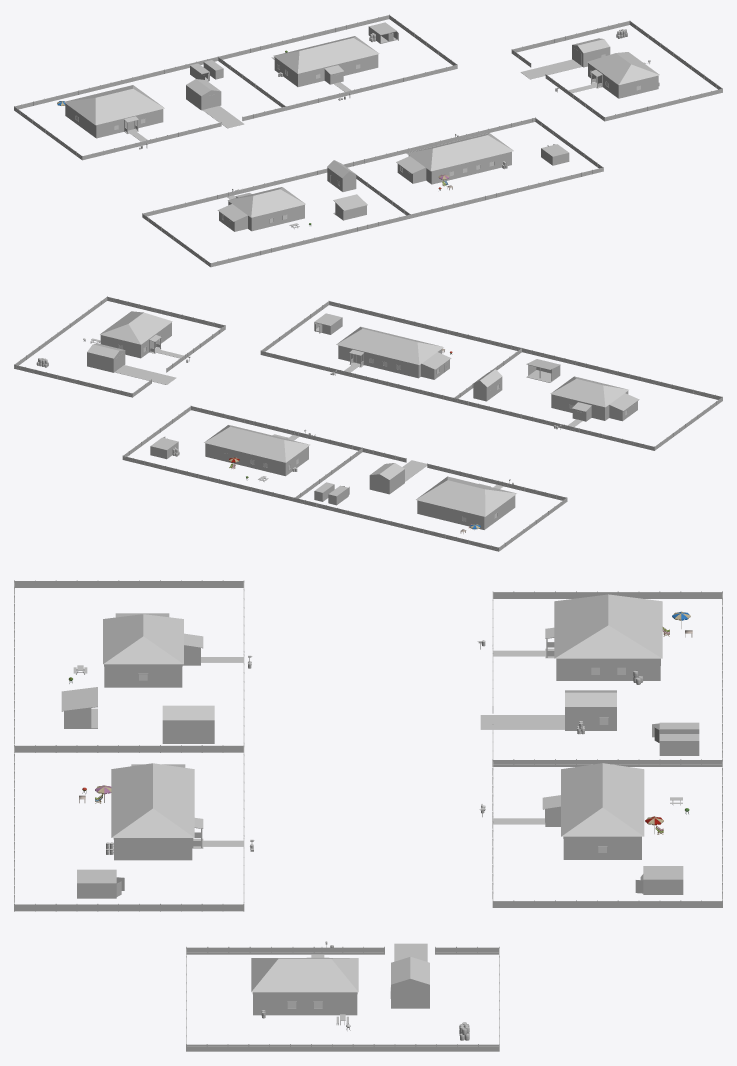
Rendered from HauseHutor09.fbx.
The picture shows the model from 3 angles, top to bottom: view 1: azimuth 30°, elevation 25°; view 2: azimuth 150°, elevation 25°; view 3: azimuth 270°, elevation 25°; orthographic projection. The views are drawn at different scales.
Parts seen in each view (by area): view 1: Zabor.018, Zabor.156, Roof.051, Zabor.119, Zabor.095, Roof.010, Roof.104, Zabor.158, RoofHause.025, RoofHause.015, HauseE.013, HauseF.003 (+11 smaller); view 2: Zabor.018, Zabor.156, Zabor.119, Roof.051, Zabor.095, Roof.010, Roof.104, Zabor.158, RoofHause.025, RoofHause.015, HauseF.003, HauseE.013 (+9 smaller); view 3: Roof.051, Roof.010, Roof.104, Zabor.158, Zabor.018, RoofHause.015, RoofHause.025, Zabor.156, HauseJ.025, HauseE.013, Zabor.119, Garaje.001 (+12 smaller).
Boxes of the visible parts, bbox=[...] form: Zabor.018: bbox=[343, 117, 603, 218]; Zabor.156: bbox=[218, 14, 457, 110]; Roof.051: bbox=[64, 85, 164, 125]; Zabor.119: bbox=[142, 168, 410, 267]; Zabor.095: bbox=[14, 57, 285, 160]; Roof.010: bbox=[406, 133, 513, 171]; Roof.104: bbox=[273, 36, 379, 73]; Zabor.158: bbox=[511, 20, 722, 121]; RoofHause.025: bbox=[587, 52, 659, 84]; RoofHause.015: bbox=[227, 187, 305, 217]; HauseE.013: bbox=[65, 103, 163, 138]; HauseF.003: bbox=[274, 54, 378, 86]; Zabor.018: bbox=[260, 301, 522, 401]; Zabor.156: bbox=[122, 406, 362, 501]; Zabor.119: bbox=[454, 348, 722, 450]; Roof.051: bbox=[416, 476, 516, 516]; Zabor.095: bbox=[294, 448, 567, 551]; Roof.010: bbox=[336, 326, 443, 364]; Roof.104: bbox=[204, 425, 310, 462]; Zabor.158: bbox=[14, 296, 225, 397]; RoofHause.025: bbox=[100, 311, 172, 344]; RoofHause.015: bbox=[550, 376, 628, 407]; HauseF.003: bbox=[205, 443, 308, 475]; HauseE.013: bbox=[417, 495, 515, 529]; Roof.051: bbox=[554, 594, 662, 658]; Roof.010: bbox=[111, 763, 194, 837]; Roof.104: bbox=[561, 763, 644, 836]; Zabor.158: bbox=[186, 946, 499, 1051]; Zabor.018: bbox=[14, 745, 244, 911]; RoofHause.015: bbox=[103, 614, 183, 664]; RoofHause.025: bbox=[251, 958, 358, 992]; Zabor.156: bbox=[492, 759, 722, 907]; HauseJ.025: bbox=[252, 992, 357, 1014]; HauseE.013: bbox=[556, 658, 660, 680]; Zabor.119: bbox=[14, 580, 244, 744]; Garaje.001: bbox=[565, 690, 616, 730].
Bounding box in the file's own units: 16854 × 758 × 10882.
